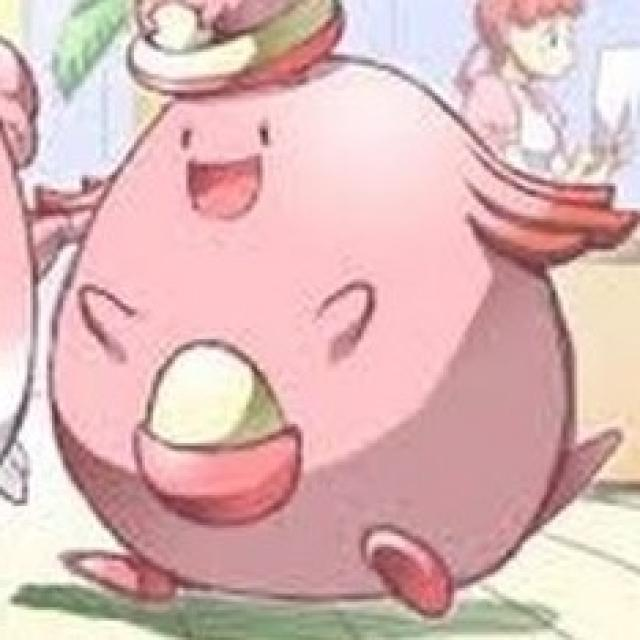Chansey: (42, 54, 606, 607)
